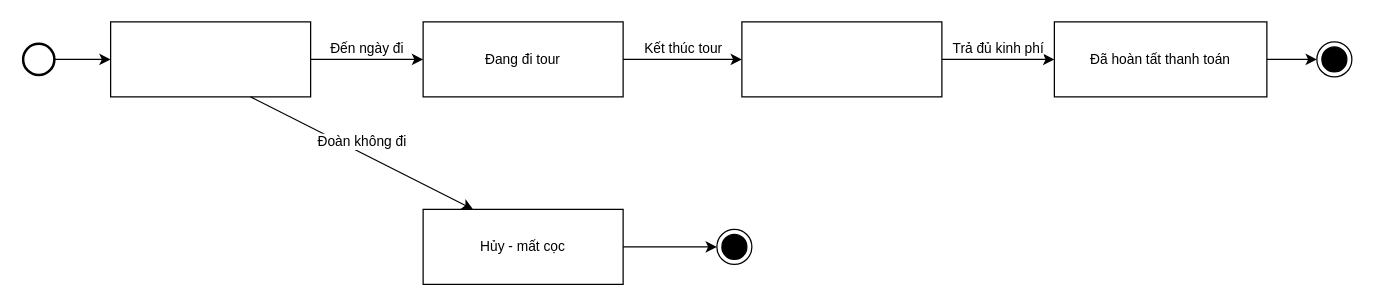
This 1374x306 diagram has some shape labels left out. The centre of each missing label's shape, as x and y in pixels:
"Chờ thanh toán (sau kết thúc)" belongs at (841,59).
"Đã đăng ký (Chờ đi tour)" belongs at (210,59).
